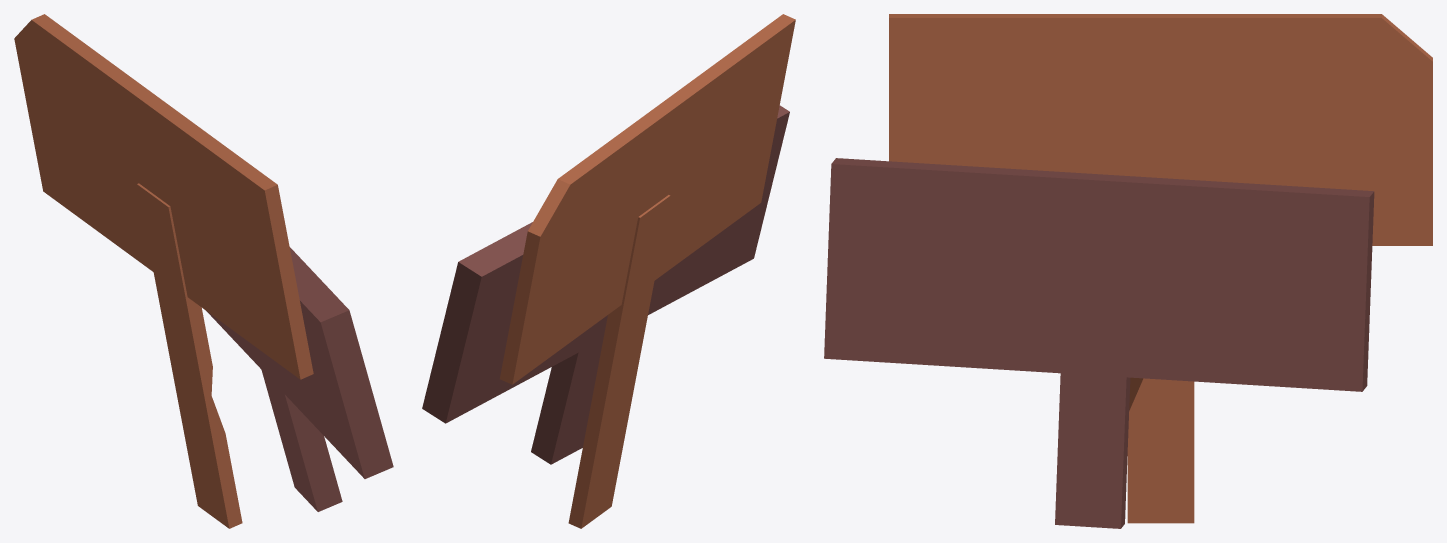
The model's file is placas.fbx.
3 renders of one model, left to right at view 1: azimuth 30°, elevation 25°; view 2: azimuth 150°, elevation 25°; view 3: azimuth 270°, elevation 25°, orthographic. The views are drawn at different scales.
Parts seen in each view (by area): view 1: Cube.032; view 2: Cube.032; view 3: Cube.032.
Part boxes in pixels (x1=…): Cube.032: x1=14, y1=14, x2=393, y2=528; Cube.032: x1=422, y1=14, x2=795, y2=528; Cube.032: x1=824, y1=14, x2=1432, y2=528.
Bounding box in the file's own units: 0.4768 × 1.23 × 1.45.
